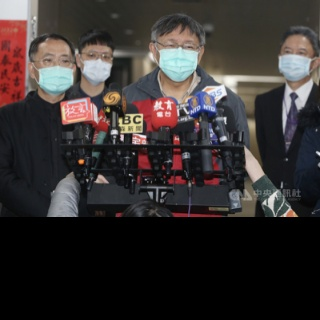with_mask: (156, 35, 200, 80), (35, 50, 76, 93), (280, 43, 313, 81), (81, 48, 113, 83)
